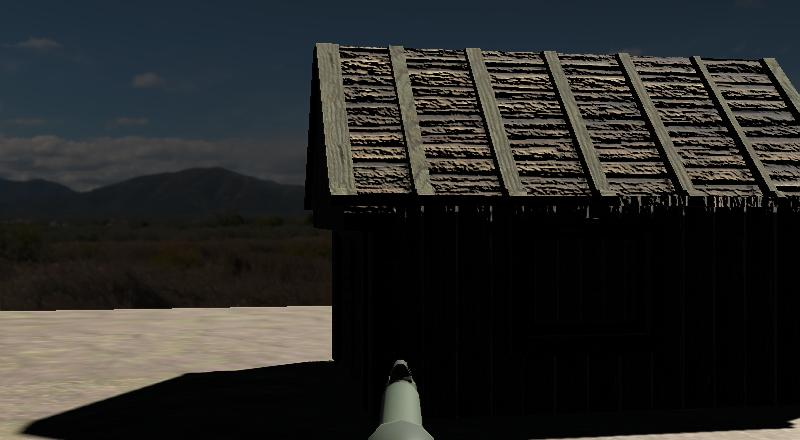House: (303, 46, 797, 437)
